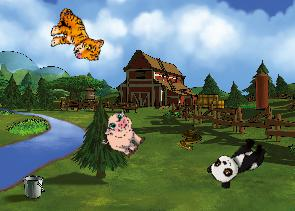panda: (204, 131, 271, 192)
pig: (95, 107, 151, 162)
tiger: (45, 6, 109, 64)
